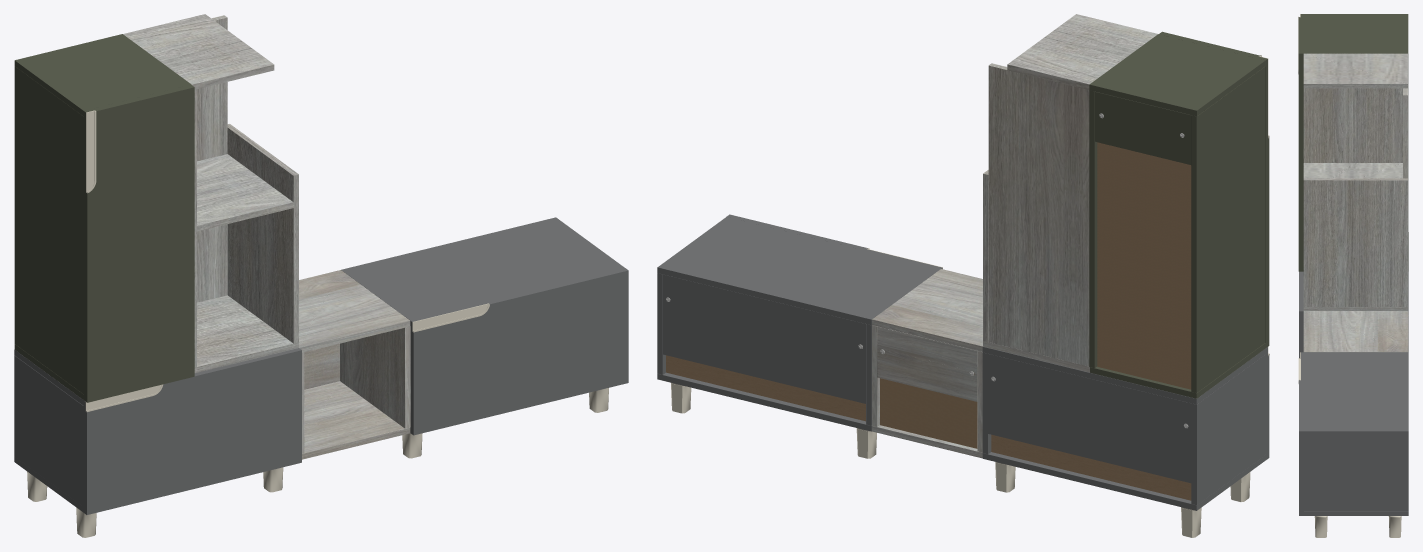
3 views of the same model, side by side, from view 1: azimuth 30°, elevation 25°; view 2: azimuth 150°, elevation 25°; view 3: azimuth 270°, elevation 25° (orthographic). The views are drawn at different scales.
Parts seen in each view (by area): view 1: Cube.003, Cube.007, group_0.152, group_0.150, group_0.145, group_0.147, group_0.146, group_0.154, Plane, group_0.094, group_0.114, group_0.144; view 2: Cube.003, Cube.007, group_0.147, group_0.146, group_0.151, group_0.145, Plane.001, group_0.148, group_0.149, group_0.154, group_0.152; view 3: Cube.007, group_0.147, Cube.003, group_0.145, group_0.152, group_0.154, group_0.150.
Part boxes in pixels (left/top/right/bottom): Cube.003: left=14, top=34, right=194, bottom=402; Cube.007: left=123, top=14, right=298, bottom=373; group_0.152: left=410, top=268, right=628, bottom=435; group_0.150: left=83, top=348, right=301, bottom=514; group_0.145: left=299, top=270, right=410, bottom=459; group_0.147: left=341, top=217, right=624, bottom=320; group_0.146: left=14, top=349, right=83, bottom=512; group_0.154: left=27, top=388, right=608, bottom=537; Plane: left=304, top=343, right=339, bottom=389; group_0.094: left=86, top=110, right=96, bottom=193; group_0.114: left=412, top=303, right=489, bottom=332; group_0.144: left=85, top=384, right=163, bottom=411; Cube.003: left=1089, top=31, right=1269, bottom=398; Cube.007: left=983, top=14, right=1158, bottom=372; group_0.147: left=657, top=217, right=940, bottom=431; group_0.146: left=982, top=346, right=1265, bottom=510; group_0.151: left=1097, top=142, right=1191, bottom=389; group_0.145: left=872, top=269, right=982, bottom=458; Plane.001: left=880, top=373, right=977, bottom=448; group_0.148: left=991, top=434, right=1191, bottom=500; group_0.149: left=666, top=355, right=865, bottom=421; group_0.154: left=671, top=383, right=1250, bottom=537; group_0.152: left=726, top=214, right=942, bottom=268; Cube.007: left=1303, top=53, right=1407, bottom=310; group_0.147: left=1304, top=352, right=1408, bottom=515; Cube.003: left=1298, top=14, right=1408, bottom=271; group_0.145: left=1303, top=311, right=1408, bottom=352; group_0.152: left=1299, top=352, right=1303, bottom=515; group_0.154: left=1314, top=516, right=1401, bottom=537; group_0.150: left=1299, top=271, right=1303, bottom=358.
Size of the model in its own units: 1.76 by 1.35 by 0.4118.
Materials: 14 (5 with a texture image).
